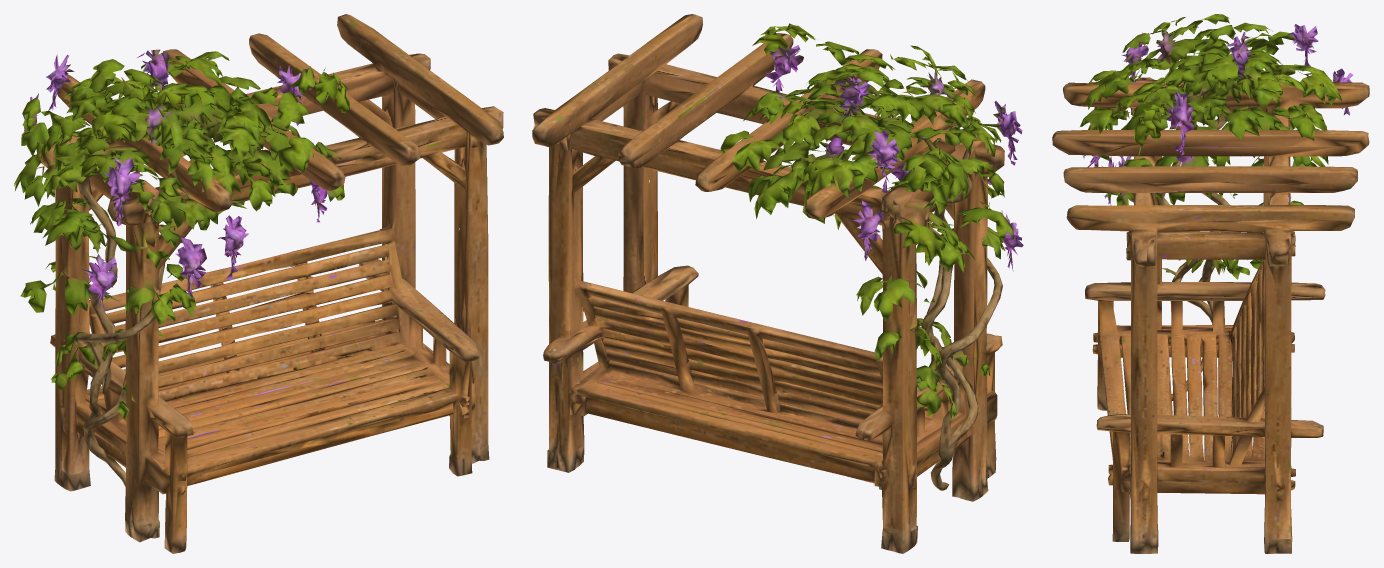
Rendered from wisteria-bench-mobile-v1.glb.
The picture shows the model from 3 angles, left to right: view 1: azimuth 30°, elevation 25°; view 2: azimuth 150°, elevation 25°; view 3: azimuth 270°, elevation 25°; orthographic projection. The views are drawn at different scales.
Parts seen in each view (by area): view 1: wisteria-bench; view 2: wisteria-bench; view 3: wisteria-bench.
Part boxes in pixels (box(x1,y1,x2,y2)): wisteria-bench: box(14, 14, 503, 553); wisteria-bench: box(532, 14, 1023, 553); wisteria-bench: box(1052, 14, 1369, 553).
Size of the model in its own units: 0.9784 by 0.9503 by 0.6864.
Materials: 1 (1 with a texture image).
